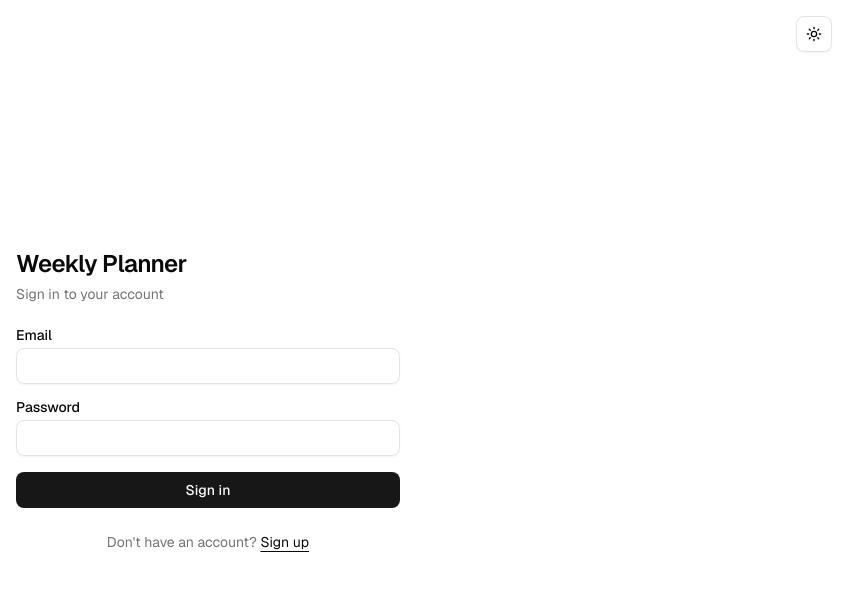
Test case: LoginPage › mode toggle › switches to sign-up mode when the Sign up link is clicked
The image size is (848, 606).
What coordinates should you click on to do the following:
click the button "Sign up"
I would click on:
 (285, 542)
Its box is [260,532,309,552].
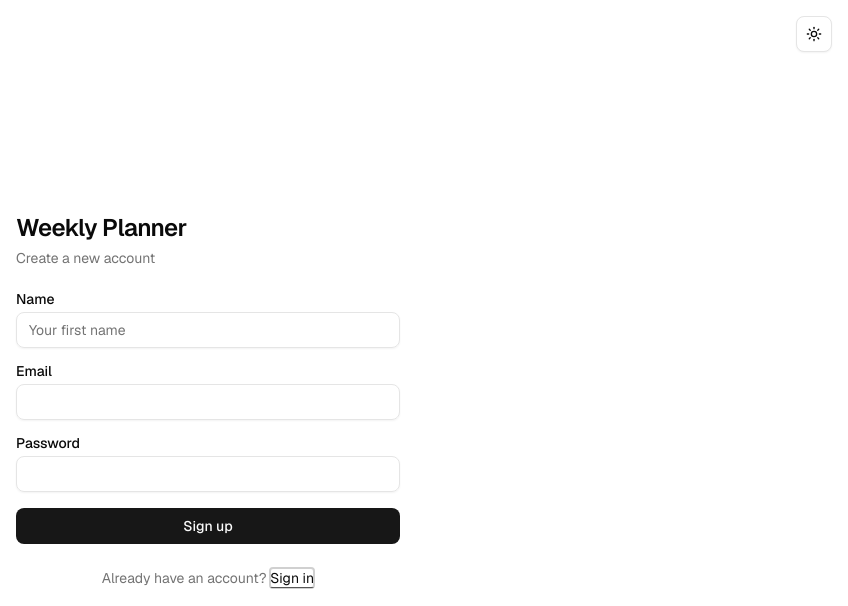
Expected: the text "Create a new account" is shown, [16,249,155,267]
